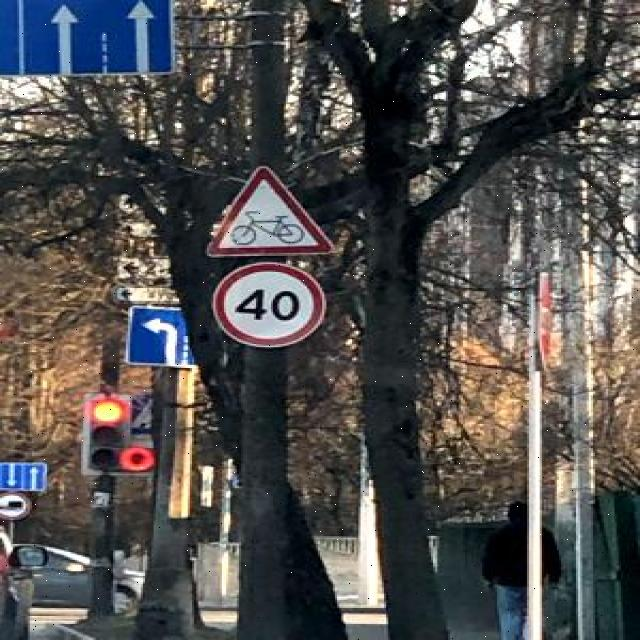speed limit 40: (210, 263, 327, 348)
